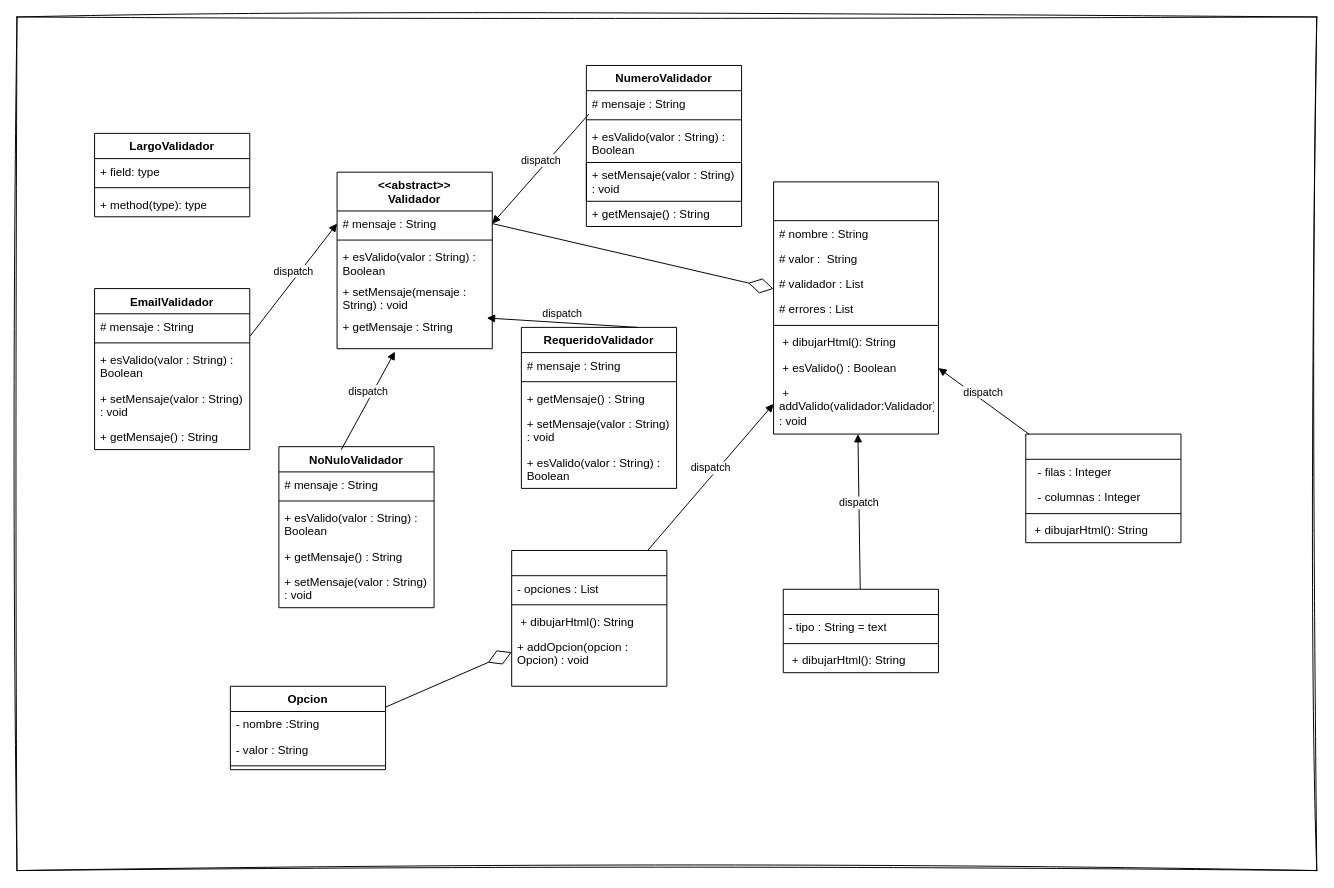
The diagram is 1334 pixels wide and 888 high, and some of its shapes have lost their labels. Each missing label, with the box of its shape:
<<abstract>> ElementoForm: (773, 181, 938, 434)
InputForm: (782, 588, 938, 673)
SelectForm: (511, 550, 667, 686)
TextareaForm: (1025, 433, 1181, 543)
